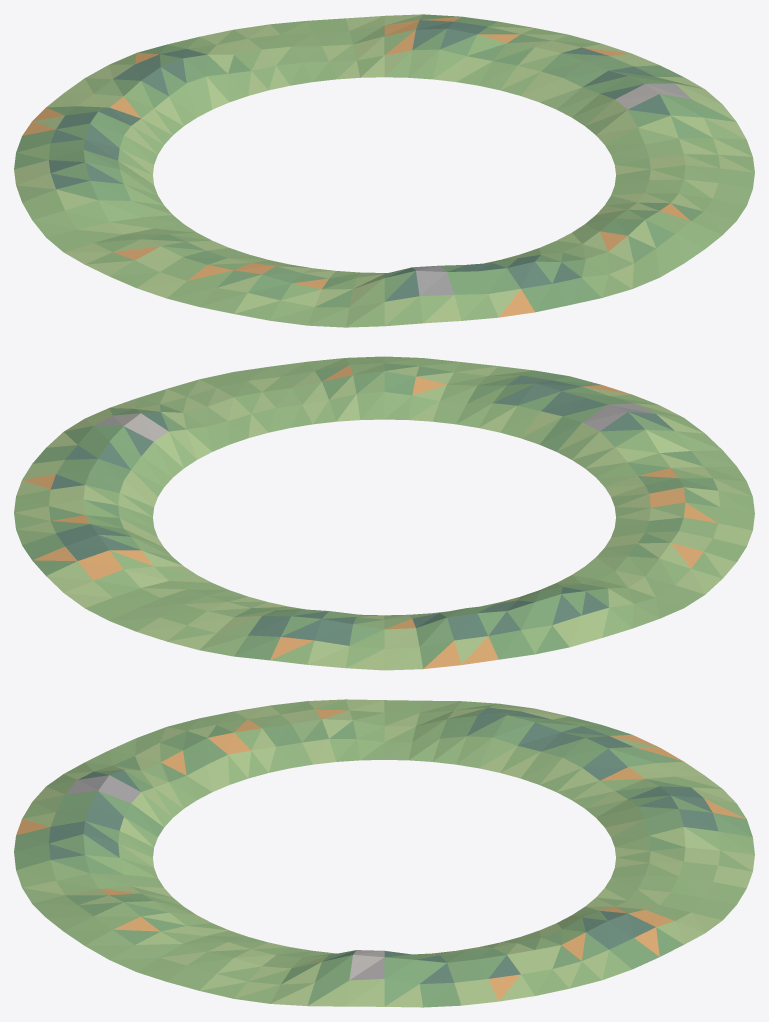
File: bg_hills_ring_low.glb
3 renders of one model, top to bottom at view 1: azimuth 30°, elevation 25°; view 2: azimuth 150°, elevation 25°; view 3: azimuth 270°, elevation 25°, orthographic.
Visible parts, largest first — view 1: bg_hills_ring_low; view 2: bg_hills_ring_low; view 3: bg_hills_ring_low.
Part boxes in pixels (x1,y1,x2,y2): bg_hills_ring_low: (14,14,754,327); bg_hills_ring_low: (14,356,754,670); bg_hills_ring_low: (14,699,754,1007).
Bounding box in the file's own units: 960 × 44.16 × 960.
